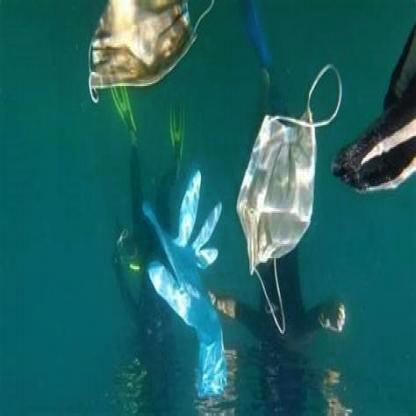Mask: (236, 59, 341, 338), (86, 0, 214, 113)
glove: (135, 169, 229, 402)
